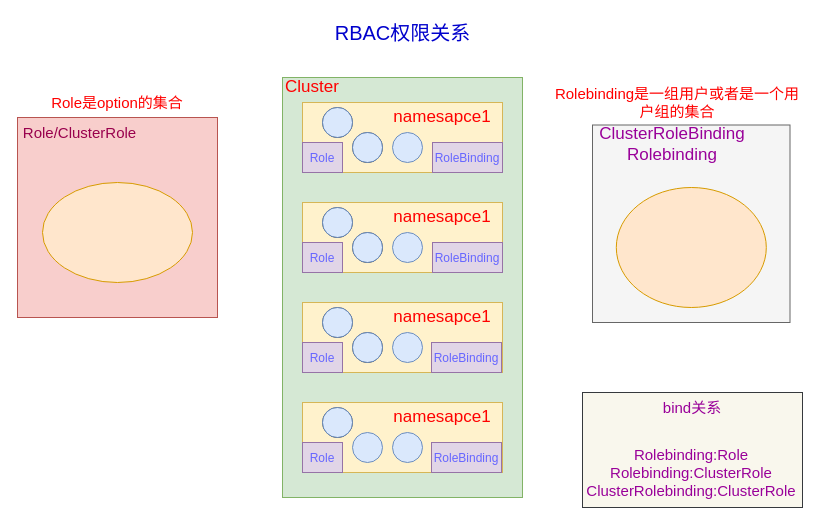
Some shapes in this 831 by 529 pixel diagram are drawn without their labels. Each missing label, with the box of its shape:
get list watch...: (42, 182, 192, 282)
user1;user2; Group; serviceAccount: (615, 186, 766, 308)
